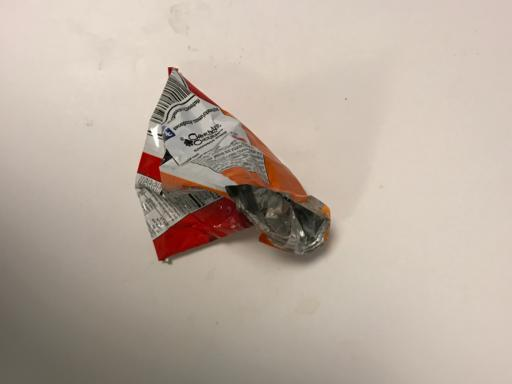trash: (133, 66, 332, 265)
